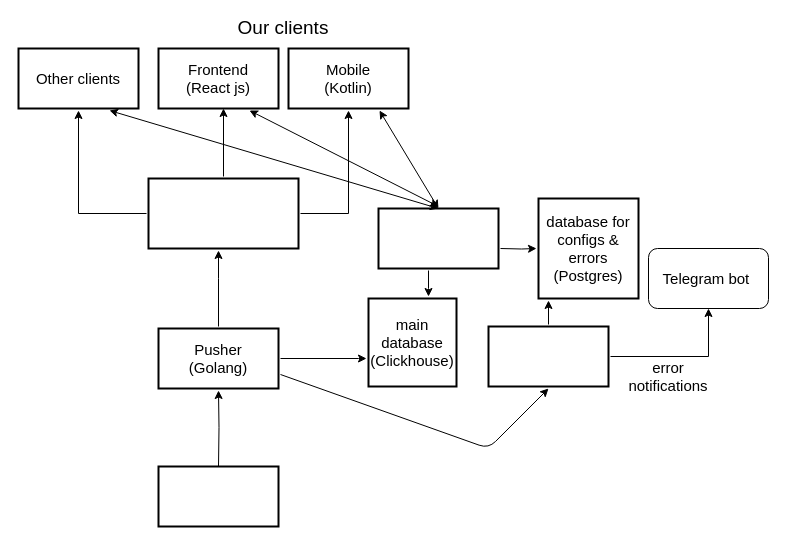
Image size: 786x545. Some labels were removed from this diagram. The box of each missing label's shape, as (x1, y1, x2, y2) in pixels:
Checkerr (Golang): (487, 325, 609, 387)
HTTP API (Golang): (377, 207, 499, 269)
OPC simulator server (JavaScript): (157, 465, 279, 527)
Unloader (Golang): (147, 177, 299, 249)
